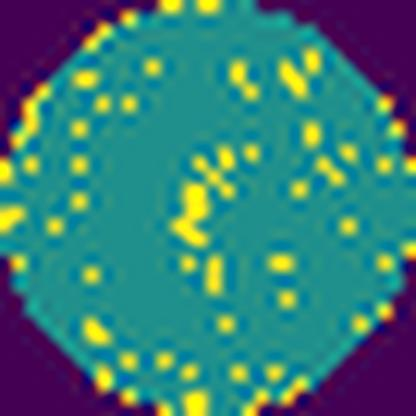Center: (168, 148, 239, 250)
